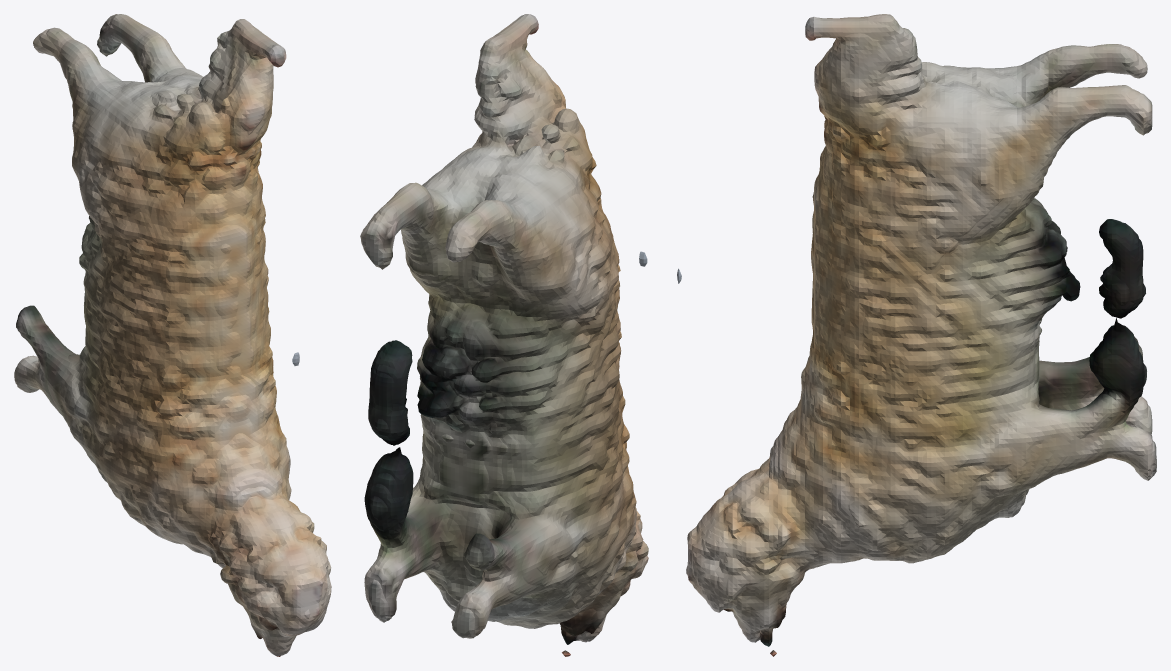
3 views of the same model, side by side, from view 1: azimuth 30°, elevation 25°; view 2: azimuth 150°, elevation 25°; view 3: azimuth 270°, elevation 25° (orthographic). The views are drawn at different scales.
Visible parts, largest first — view 1: world; view 2: world; view 3: world.
Boxes of the visible parts, <box> form: world: <box>14,14,331,656</box>; world: <box>360,14,648,656</box>; world: <box>677,14,1156,656</box>.
Size of the model in its own units: 0.3055 by 1.08 by 0.7255.
